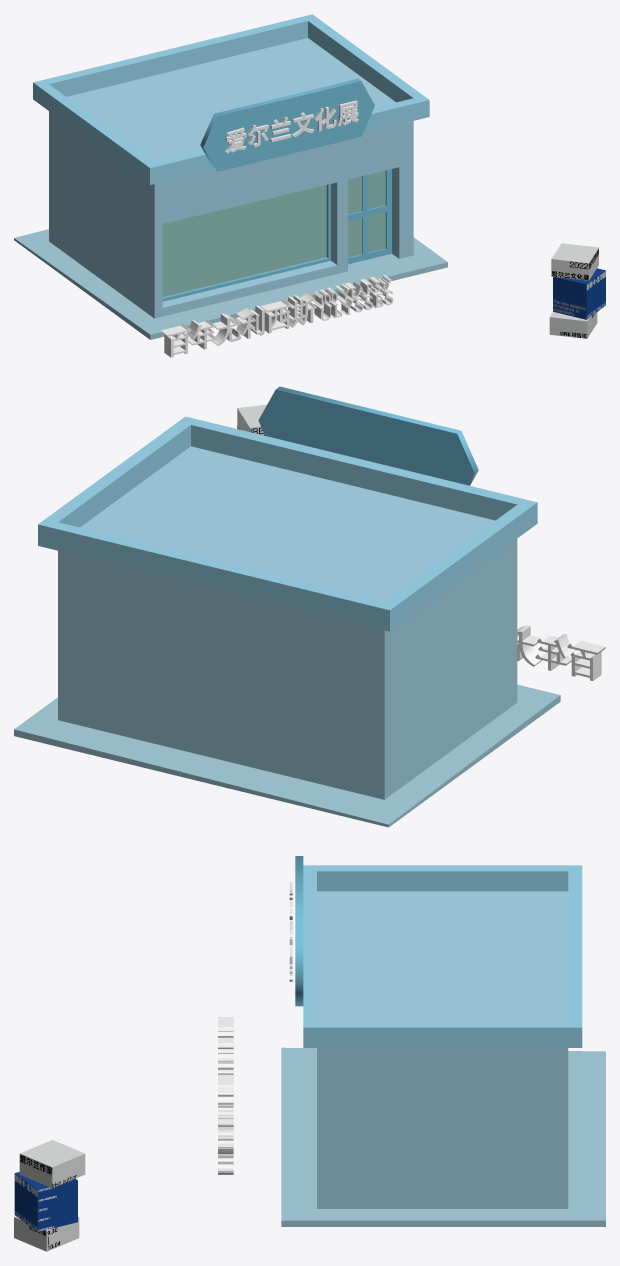
3 renders of one model, top to bottom at view 1: azimuth 30°, elevation 25°; view 2: azimuth 150°, elevation 25°; view 3: azimuth 270°, elevation 25°, orthographic. The views are drawn at different scales.
Parts seen in each view (by area): view 1: 墙面, 屋顶, 石板, 蓝色站姿, 文字, 堡垒, Model, 门框, 窗框; view 2: 墙面, 屋顶, 石板, 蓝色站姿, 文字, 堡垒; view 3: 墙面, 屋顶, 石板, 堡垒, 文字, 蓝色站姿.
Boxes of the visible parts, x1=… form: 墙面: x1=49, y1=38, x2=413, y2=318; 屋顶: x1=33, y1=14, x2=429, y2=184; 石板: x1=14, y1=229, x2=447, y2=339; 蓝色站姿: x1=200, y1=78, x2=374, y2=171; 文字: x1=161, y1=274, x2=393, y2=357; 堡垒: x1=549, y1=243, x2=605, y2=338; Model: x1=225, y1=100, x2=358, y2=153; 门框: x1=348, y1=169, x2=391, y2=264; 窗框: x1=162, y1=184, x2=330, y2=301; 墙面: x1=58, y1=446, x2=517, y2=799; 屋顶: x1=38, y1=416, x2=537, y2=631; 石板: x1=14, y1=684, x2=560, y2=827; 蓝色站姿: x1=258, y1=386, x2=478, y2=485; 文字: x1=517, y1=625, x2=605, y2=680; 堡垒: x1=237, y1=404, x2=266, y2=435; 墙面: x1=317, y1=891, x2=568, y2=1208; 屋顶: x1=303, y1=865, x2=582, y2=1047; 石板: x1=281, y1=1047, x2=605, y2=1226; 堡垒: x1=14, y1=1140, x2=85, y2=1251; 文字: x1=218, y1=1017, x2=233, y2=1174; 蓝色站姿: x1=295, y1=856, x2=303, y2=1006.
Size of the model in its own units: 28.54 by 15.16 by 33.86.
Materials: 20 (12 with a texture image).
